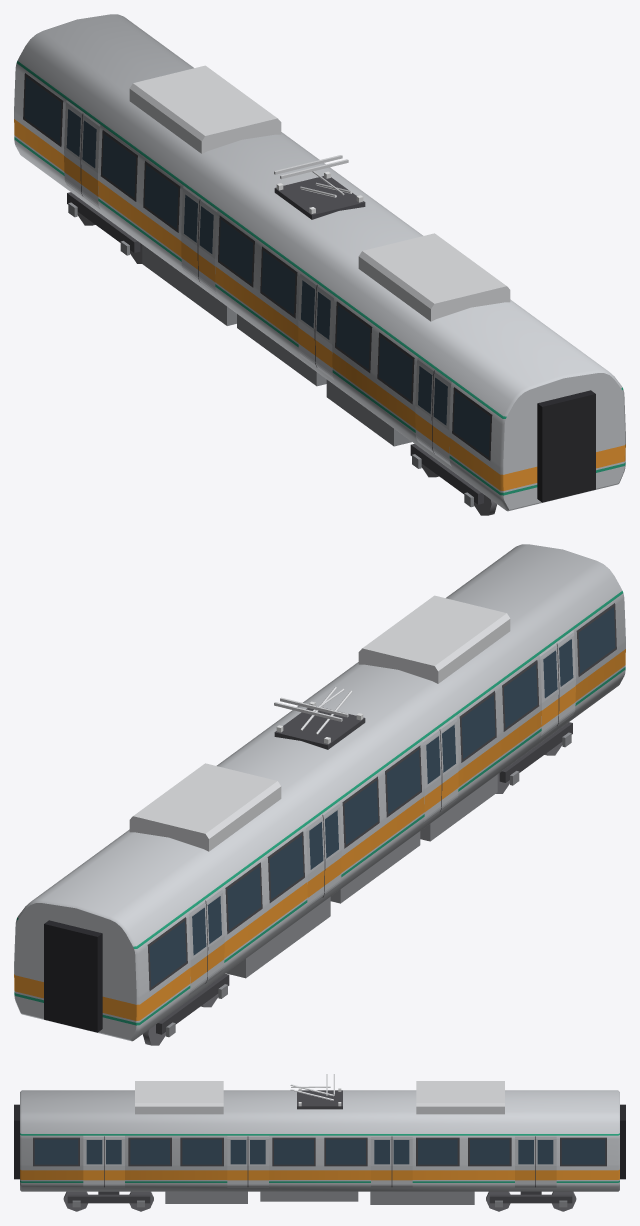
The model's file is middle_4.fbx.
The picture shows the model from 3 angles, top to bottom: view 1: azimuth 30°, elevation 25°; view 2: azimuth 150°, elevation 25°; view 3: azimuth 270°, elevation 25°; orthographic projection. The views are drawn at different scales.
Parts seen in each view (by area): view 1: 20_middle_4; view 2: 20_middle_4; view 3: 20_middle_4.
Boxes of the visible parts, <box> form: 20_middle_4: <box>14,14,625,515</box>; 20_middle_4: <box>14,544,625,1045</box>; 20_middle_4: <box>14,1074,625,1211</box>.
Size of the model in its own units: 2.95 by 4.2 by 20.
